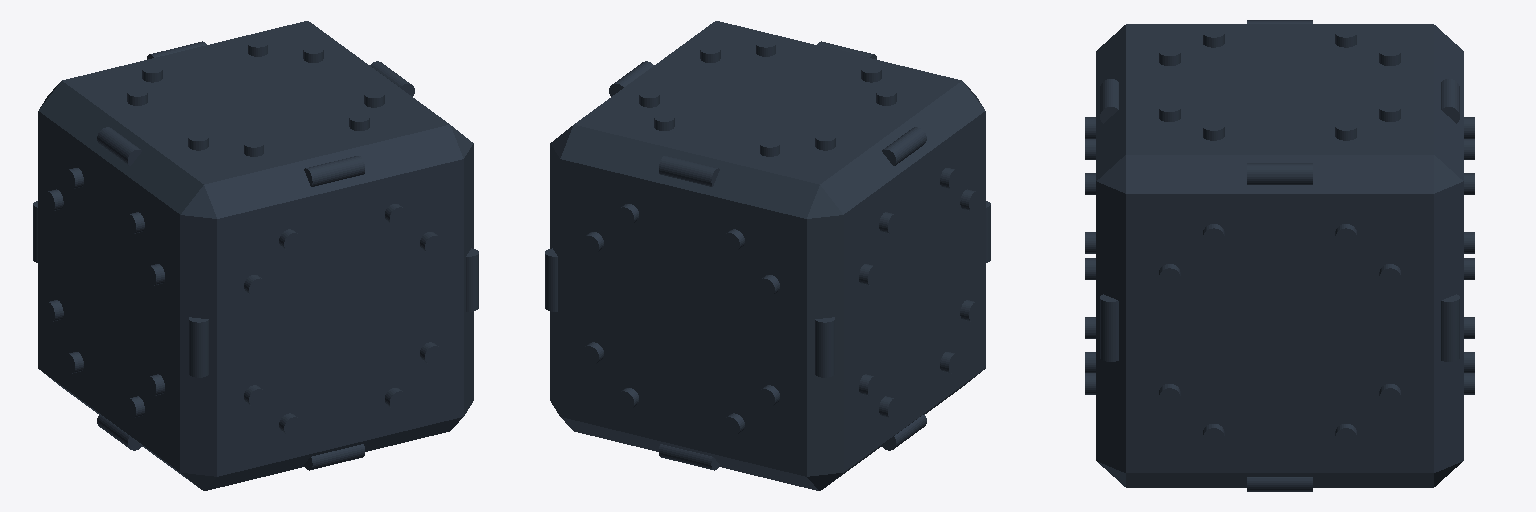
The robot description file, URDF, robot "mblocks_3d_cad_proxy":
<?xml version="1.0" encoding="utf-8"?>
<robot name="mblocks_3d_cad_proxy">
  <!--
    Expanded from the user-provided M-Block_description Xacro. The original
    package-local substitutions and ROS/Gazebo includes are intentionally
    removed so this Robot Pack is self-contained. CAD meshes are preserved;
    inertial and flywheel-axis values implement the paper-reference one-plane
    physics bootstrap and the base collision is a nominal 50 mm cube proxy.
  -->
  <mujoco>
    <compiler discardvisual="false" />
  </mujoco>

  <material name="mblock_shell">
    <color rgba="0.23 0.27 0.32 1.0" />
  </material>
  <material name="mblock_carrier">
    <color rgba="0.70 0.72 0.76 1.0" />
  </material>
  <material name="mblock_flywheel">
    <color rgba="0.74 0.43 0.18 1.0" />
  </material>

  <link name="base_link">
    <inertial>
      <origin xyz="5.249508125511573e-15 -4.303656757228877e-18 -4.491513206544896e-15" rpy="0 0 0" />
      <mass value="0.129" />
      <inertia ixx="5.375e-05" iyy="5.375e-05" izz="5.375e-05" ixy="0" iyz="0" ixz="0" />
    </inertial>
    <visual name="base_visual">
      <origin xyz="0 0 0" rpy="0 0 0" />
      <geometry>
        <mesh filename="../meshes/base_link.stl" scale="0.001 0.001 0.001" />
      </geometry>
      <material name="mblock_shell" />
    </visual>
    <collision name="base_collision_proxy">
      <origin xyz="0 0 0" rpy="0 0 0" />
      <geometry>
        <box size="0.05 0.05 0.05" />
      </geometry>
    </collision>
  </link>

  <link name="actuator_carrier_link_1">
    <inertial>
      <origin xyz="2.5613860044114445e-13 -1.2806941233106696e-13 -1.2806883388667827e-13" rpy="0 0 0" />
      <mass value="0.001" />
      <inertia ixx="1e-07" iyy="1e-07" izz="1e-07" ixy="0" iyz="0" ixz="0" />
    </inertial>
    <visual name="carrier_visual">
      <origin xyz="0 0 0" rpy="0 0 0" />
      <geometry>
        <mesh filename="../meshes/actuator_carrier_link_1.stl" scale="0.001 0.001 0.001" />
      </geometry>
      <material name="mblock_carrier" />
    </visual>
  </link>

  <link name="flywheel_link_1">
    <inertial>
      <origin xyz="1.6193069678265327e-18 1.4840892994854594e-17 -1.1602279059201533e-17" rpy="0 0 0" />
      <mass value="0.020" />
      <inertia ixx="4.3e-06" iyy="8.4e-06" izz="4.3e-06" ixy="0" iyz="0" ixz="0" />
    </inertial>
    <visual name="flywheel_visual">
      <origin xyz="0 0 0" rpy="0 0 0" />
      <geometry>
        <mesh filename="../meshes/flywheel_link_1.stl" scale="0.001 0.001 0.001" />
      </geometry>
      <material name="mblock_flywheel" />
    </visual>
  </link>

  <joint name="carrier_joint" type="fixed">
    <origin xyz="0 0 0" rpy="0 0 0" />
    <parent link="base_link" />
    <child link="actuator_carrier_link_1" />
  </joint>

  <joint name="flywheel_joint" type="continuous">
    <origin xyz="0 0 0" rpy="0 0 0" />
    <parent link="actuator_carrier_link_1" />
    <child link="flywheel_link_1" />
    <axis xyz="0 1 0" />
    <limit effort="2.6" velocity="2094.3951023931954" />
    <dynamics damping="0.000001" friction="0" />
  </joint>
</robot>

--- Render facts (derived) ---
The picture shows the robot from 3 angles, left to right: view 1: azimuth 30°, elevation 25°; view 2: azimuth 150°, elevation 25°; view 3: azimuth 270°, elevation 25°; orthographic projection.
Model mblocks_3d_cad_proxy with 3 links and 2 joints (1 continuous, 1 fixed), rooted at base_link, posed all joints at 0.
Links seen in each view (by area): view 1: base_link; view 2: base_link; view 3: base_link.
Link boxes in pixels (x1,y1,x2,y2): base_link: [33, 21, 478, 490]; base_link: [545, 21, 990, 490]; base_link: [1085, 20, 1474, 491].
Bounding box of the posed robot: 0.053 × 0.053 × 0.053 m (x, y, z).
3 mesh visuals loaded from 3 distinct referenced files (3 binary STL).
